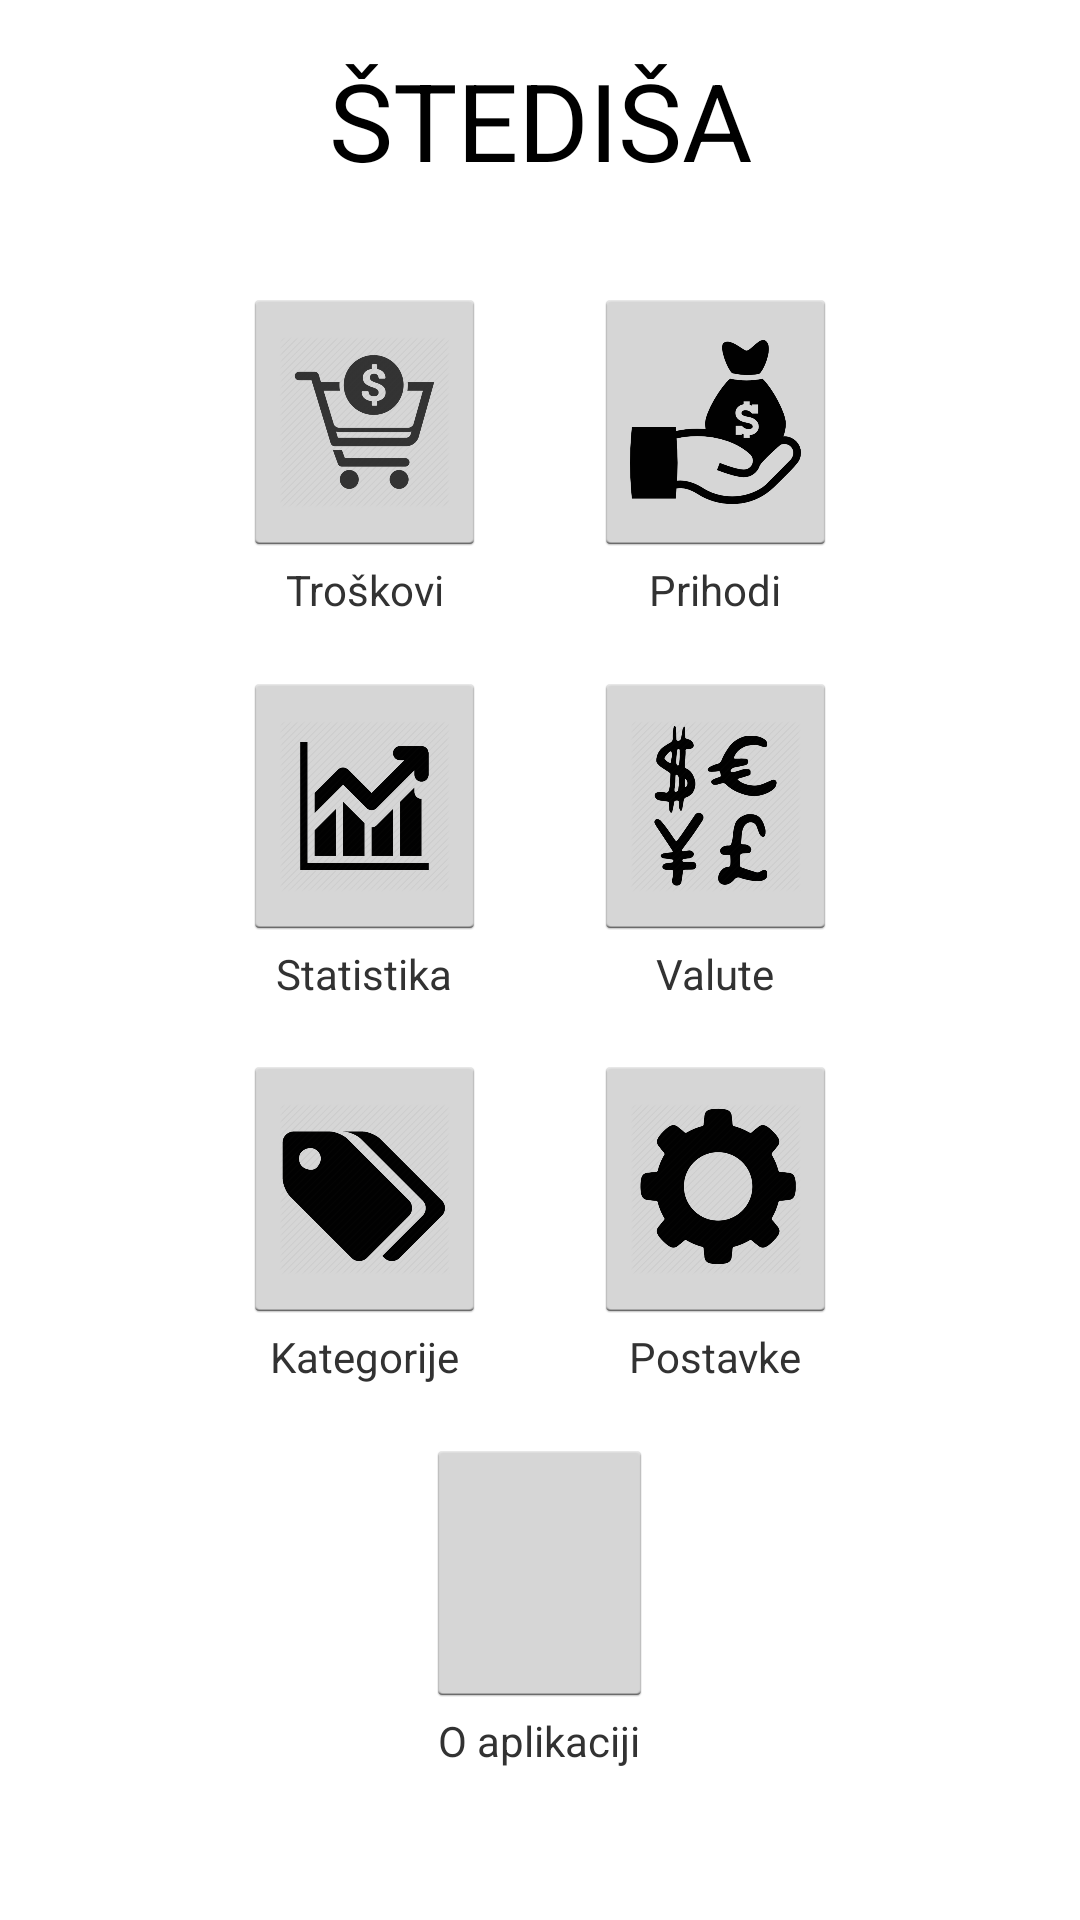

Screen size 1080*1920. Icon name, then its box in pixels as (x1=x1, y1=y1, x2=x2, y2=y2):
checkout: (x1=255, y1=301, x2=474, y2=545)
